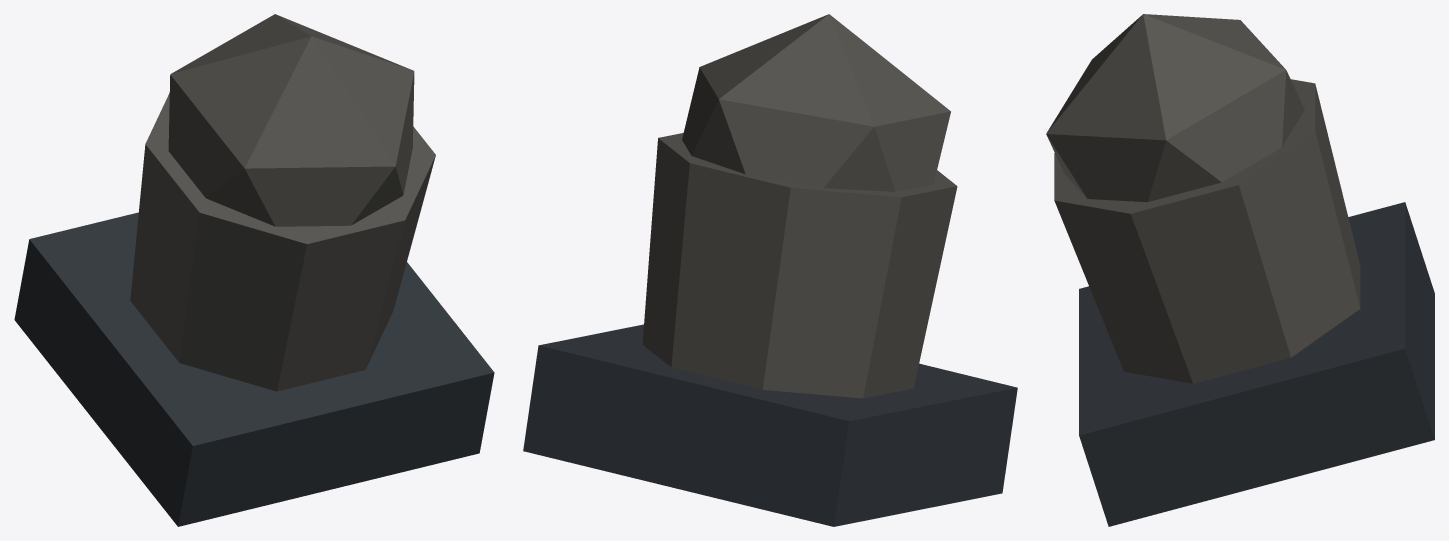
Rendered from inf_hocker_lower_leg.fbx.
3 renders of one model, left to right at view 1: azimuth 30°, elevation 25°; view 2: azimuth 150°, elevation 25°; view 3: azimuth 270°, elevation 25°, orthographic. The views are drawn at different scales.
Parts seen in each view (by area): view 1: inf_hocker_lower_leg; view 2: inf_hocker_lower_leg; view 3: inf_hocker_lower_leg.
Part boxes in pixels (x1,y1,x2,y2): inf_hocker_lower_leg: (14,14,494,526); inf_hocker_lower_leg: (523,14,1017,526); inf_hocker_lower_leg: (1046,14,1434,526).
Size of the model in its own units: 99 by 138 by 111.
